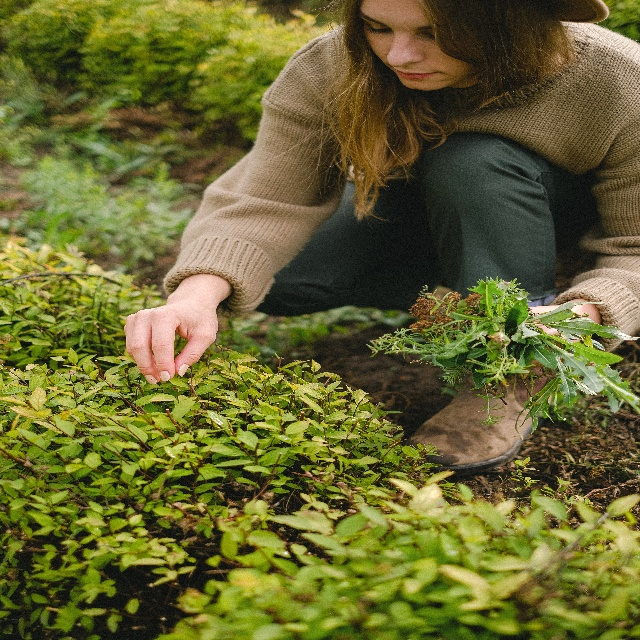Sin_guantes: (121, 291, 219, 385)
